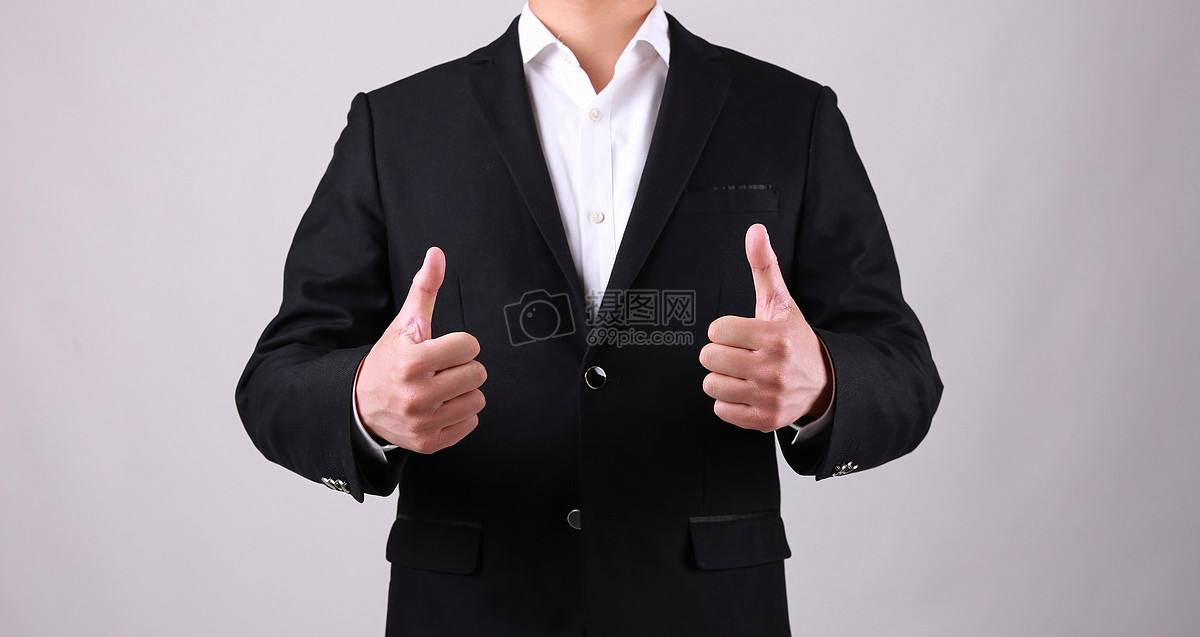no-phone: (357, 241, 487, 460), (699, 219, 818, 433)
